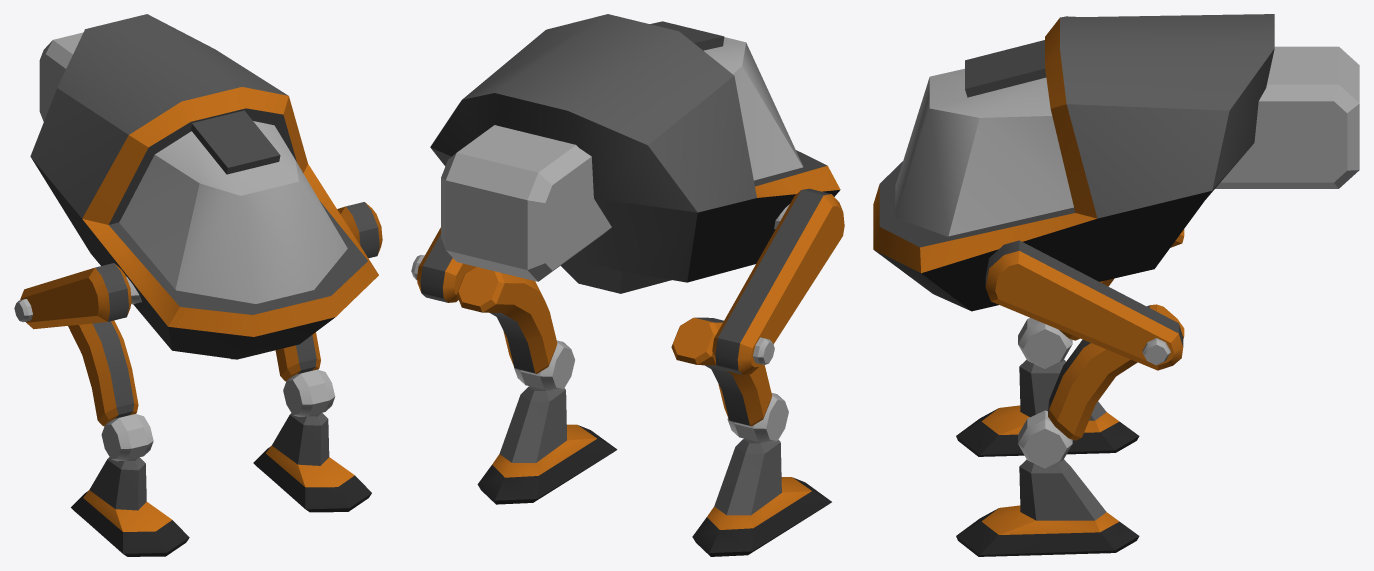
File: Titan.fbx
3 views of the same model, side by side, from view 1: azimuth 30°, elevation 25°; view 2: azimuth 150°, elevation 25°; view 3: azimuth 270°, elevation 25° (orthographic). The views are drawn at different scales.
Visible parts, largest first — view 1: Body, GlassLight, Foot (×2), Pipe2 (×2), Pipe (×2), Screw2 (×2), Black, BackLight; view 2: Body, BackLight, Foot (×2), Pipe2 (×2), Pipe (×2), GlassLight, Screw2 (×2), Black; view 3: Body, GlassLight, Foot (×2), BackLight, Pipe2, Pipe, Screw2 (×2), Black.
Boxes of the visible parts, <box> form: Body: <box>30,14,378,359</box>; GlassLight: <box>119,121,347,303</box>; Foot (×2): <box>71,413,371,556</box>; Pipe2 (×2): <box>20,202,382,329</box>; Pipe (×2): <box>68,320,320,426</box>; Screw2 (×2): <box>101,369,335,461</box>; Black: <box>191,110,280,174</box>; BackLight: <box>39,32,83,121</box>; Body: <box>430,14,840,293</box>; BackLight: <box>441,125,611,281</box>; Foot (×2): <box>477,386,831,556</box>; Pipe2 (×2): <box>417,188,844,374</box>; Pipe (×2): <box>456,266,772,426</box>; GlassLight: <box>704,37,803,180</box>; Screw2 (×2): <box>514,340,788,443</box>; Black: <box>650,21,724,50</box>; Body: <box>873,14,1274,311</box>; GlassLight: <box>895,68,1073,236</box>; Foot (×2): <box>956,359,1139,556</box>; BackLight: <box>1215,46,1359,188</box>; Pipe2: <box>985,240,1183,370</box>; Pipe: <box>1048,304,1184,440</box>; Screw2 (×2): <box>1018,318,1072,468</box>; Black: <box>965,40,1046,97</box>.
Bounding box in the file's own units: 4.31 × 5.64 × 5.41.
